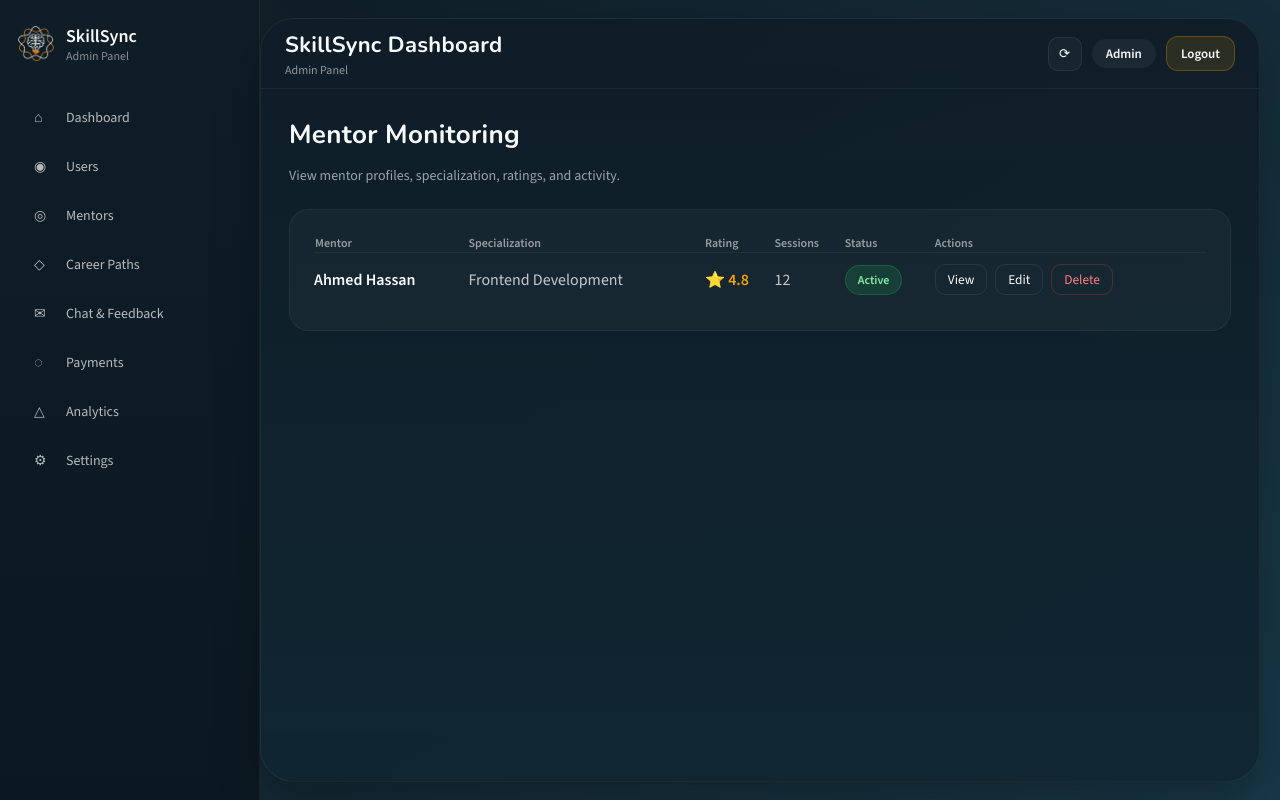
it: Mentor Management Page › opens mentor details modal when view is clicked
The width and height of the screenshot is (1280, 800).
Expected: the text "Ahmed Hassan" is shown, 314,252 -> 467,306
Click the button "View" at (961, 280), box 935,264 -> 987,295
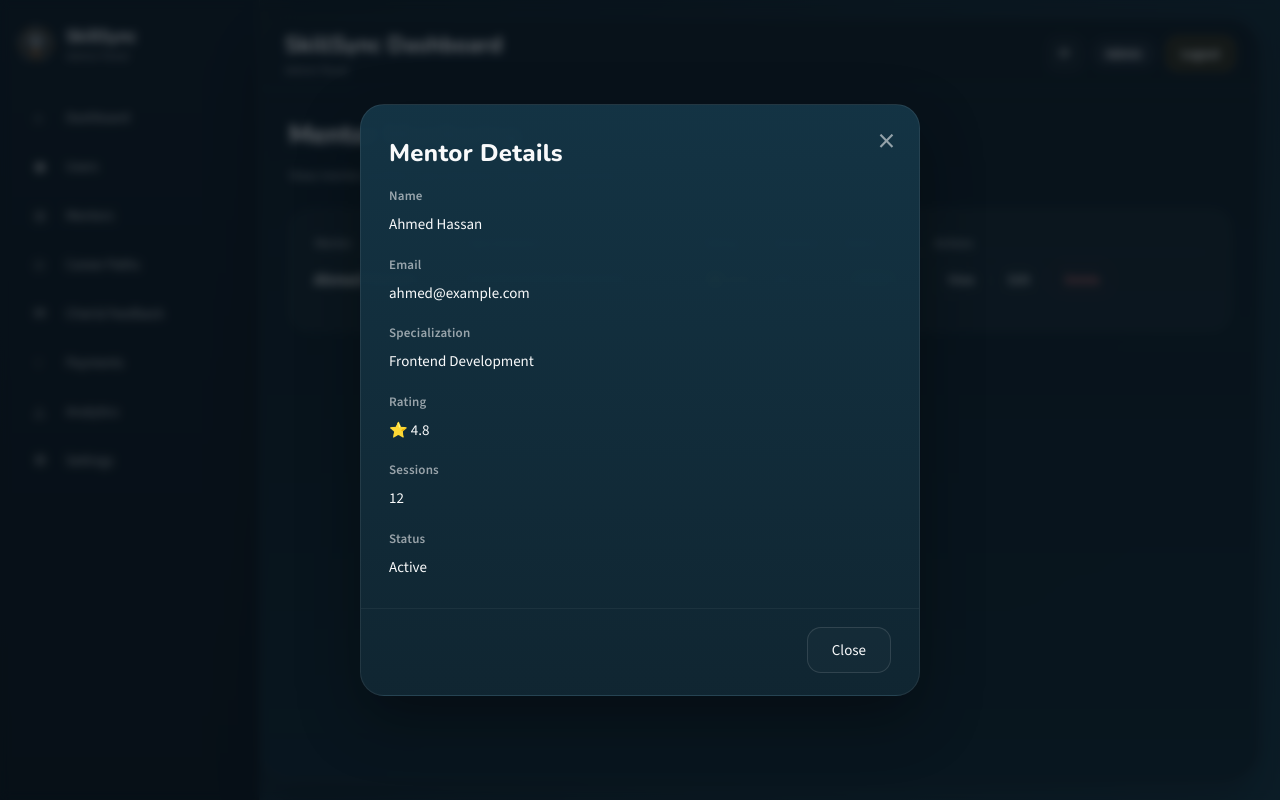
Expected: the heading "Mentor Details" is shown, 389,137 -> 563,169
Expected: the text "ahmed@example.com" is shown, 389,282 -> 530,302
